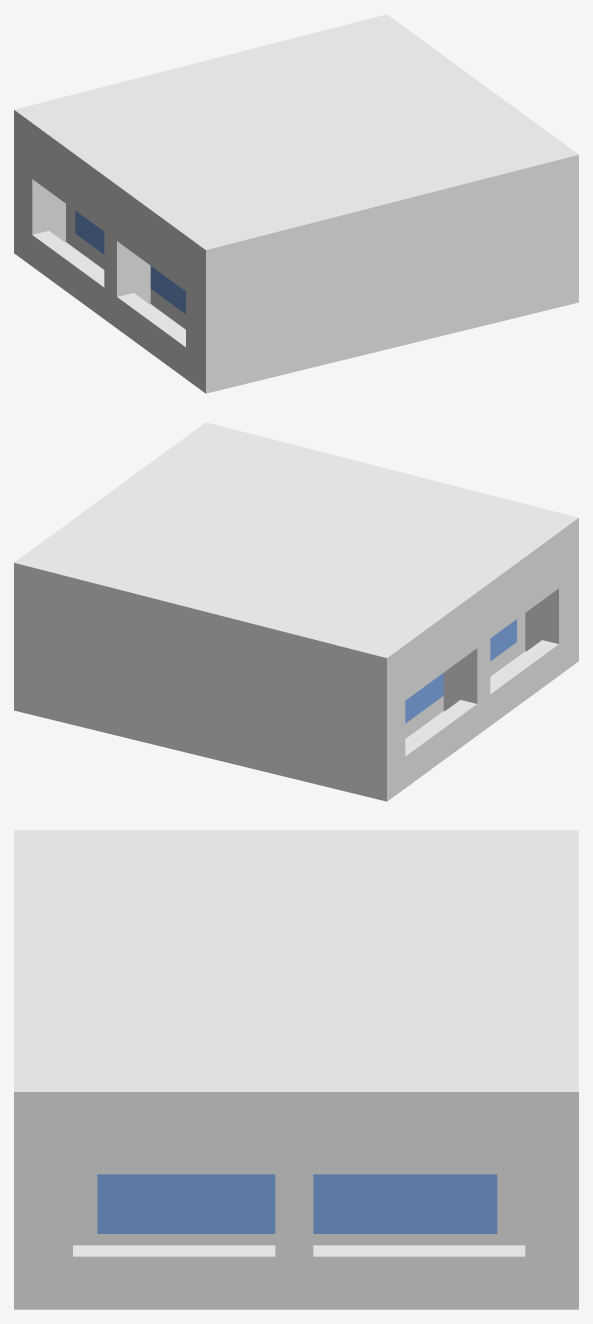
The model's file is daikyou.glb.
The picture shows the model from 3 angles, top to bottom: view 1: azimuth 30°, elevation 25°; view 2: azimuth 150°, elevation 25°; view 3: azimuth 270°, elevation 25°; orthographic projection. The views are drawn at different scales.
Visible parts, largest first — view 1: 大教室; view 2: 大教室; view 3: 大教室.
Part boxes in pixels (x1,y1,x2,y2): 大教室: (14, 14, 578, 393); 大教室: (14, 422, 578, 801); 大教室: (14, 830, 578, 1309).
Bounding box in the file's own units: 4.55 × 1.72 × 4.06.
1 material, 1 textured.
